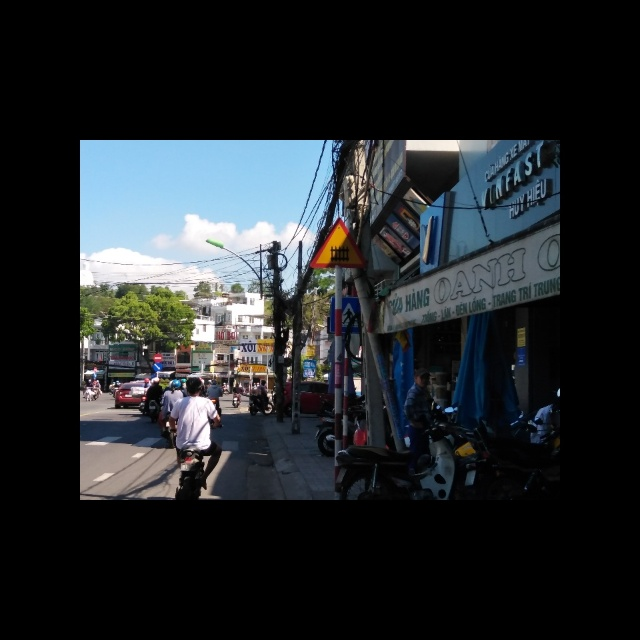Giao nhau với đường sắt có rào chắn: (309, 216, 370, 268)
